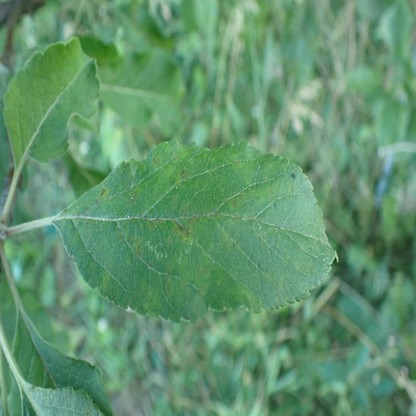scab: (63, 138, 331, 315)
